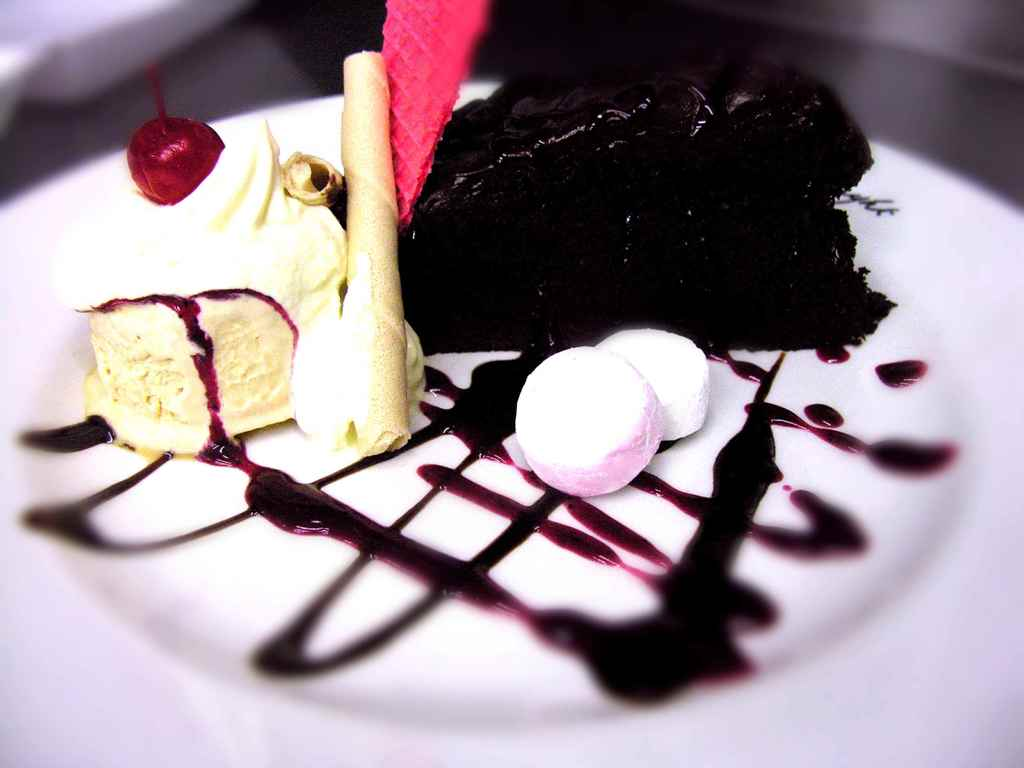cake: (0, 0, 1023, 762)
